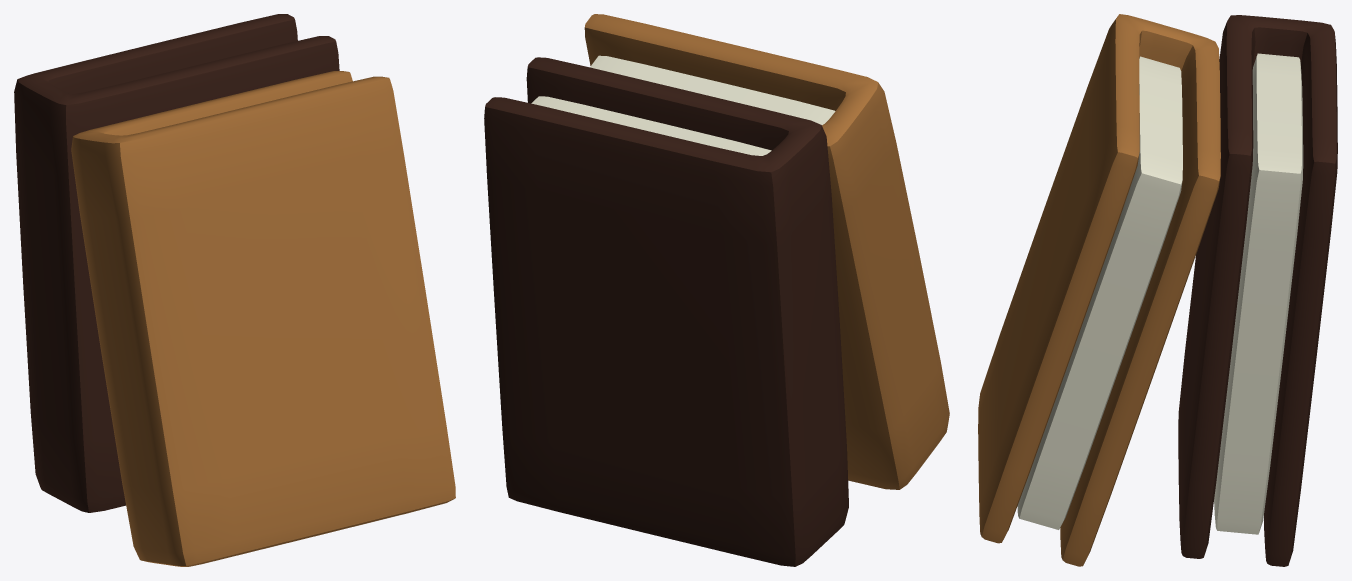
File: bookstack1.glb
The picture shows the model from 3 angles, left to right: view 1: azimuth 30°, elevation 25°; view 2: azimuth 150°, elevation 25°; view 3: azimuth 270°, elevation 25°; orthographic projection. The views are drawn at different scales.
Visible parts, largest first — view 1: Books; view 2: Books; view 3: Books.
Boxes of the visible parts, x1,y1,x2,y2 form: Books: (14, 14, 455, 566); Books: (484, 14, 949, 566); Books: (978, 14, 1337, 566).
Size of the model in its own units: 0.5761 by 0.7962 by 0.6169.
1 material, 1 textured.
